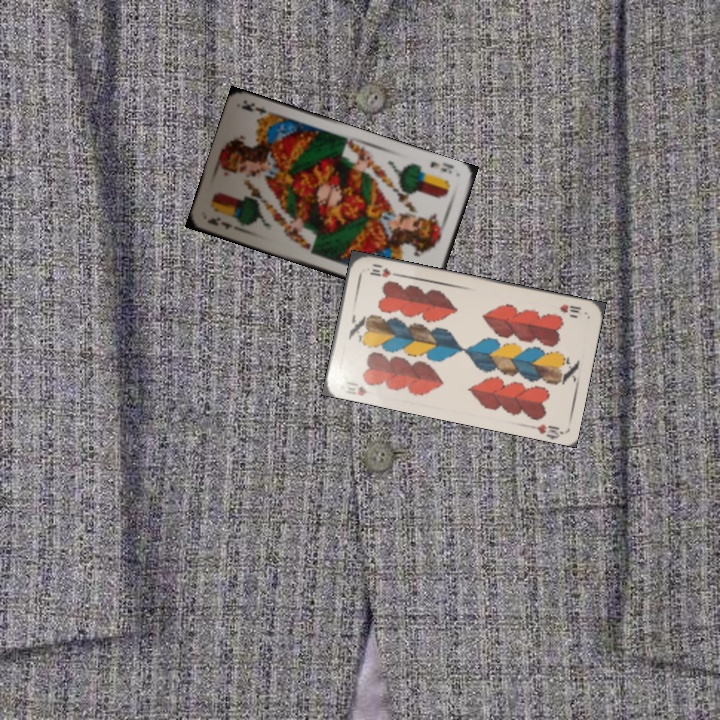EK: (426, 157, 457, 176), (204, 213, 235, 232)
H10: (556, 300, 584, 320), (341, 382, 370, 399)
